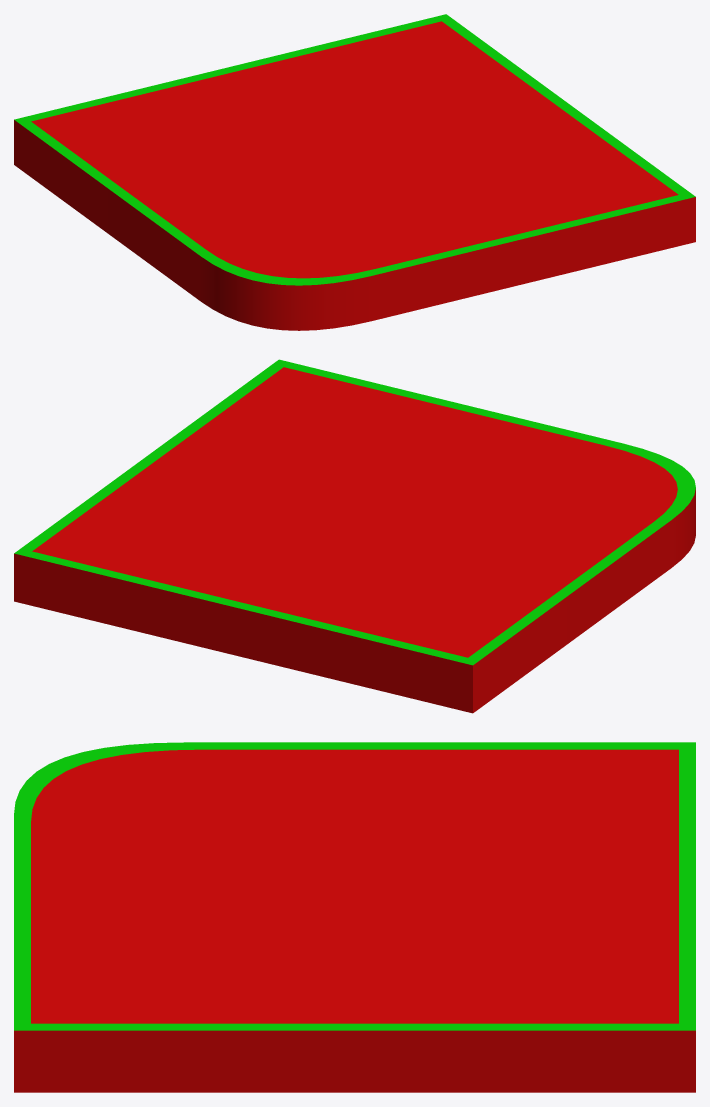
The model's file is Grid_Corner.fbx.
3 renders of one model, top to bottom at view 1: azimuth 30°, elevation 25°; view 2: azimuth 150°, elevation 25°; view 3: azimuth 270°, elevation 25°, orthographic. The views are drawn at different scales.
Parts seen in each view (by area): view 1: Grid_Corner; view 2: Grid_Corner; view 3: Grid_Corner.
Part boxes in pixels (box(x1,y1,x2,y2)): Grid_Corner: box(14, 14, 695, 330); Grid_Corner: box(14, 359, 695, 713); Grid_Corner: box(14, 742, 695, 1092).
Bounding box in the file's own units: 100 × 10 × 100.
